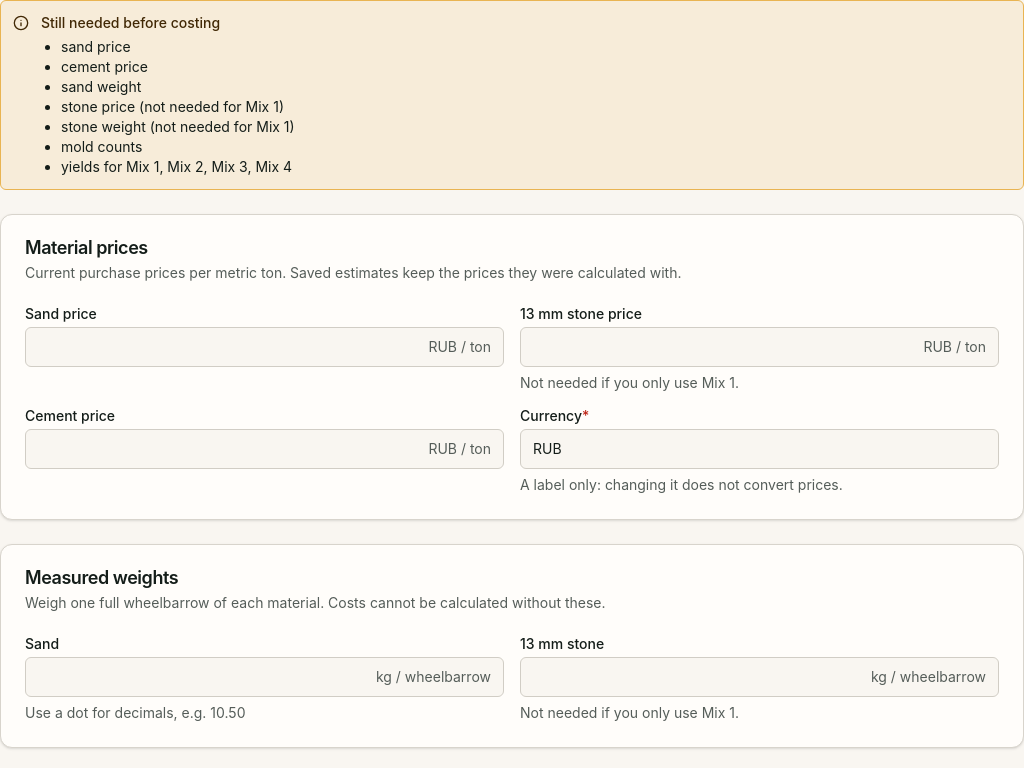
it: SettingsForm › asks before saving a zero price
Later steps or results of the test are not shown.
Type "0" into the field labelled "Cement price" at [227, 449], box [26,430,428,468]
(page scrolled)
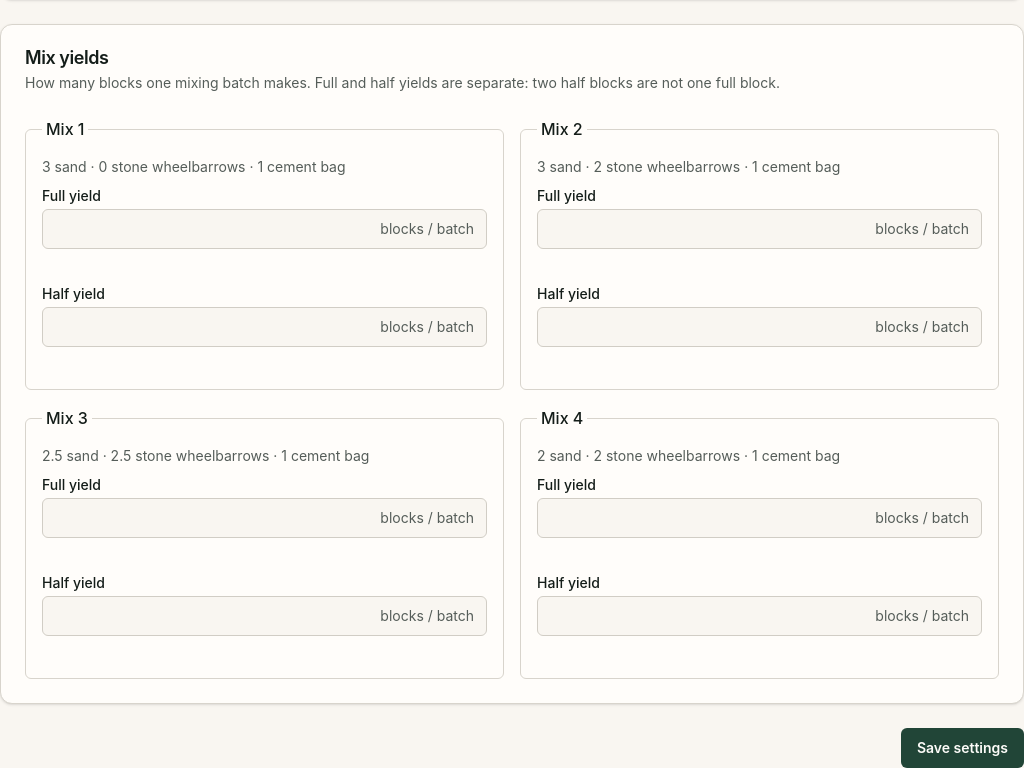
Click the button "Save settings" at [962, 748], box [901,728,1023,767]
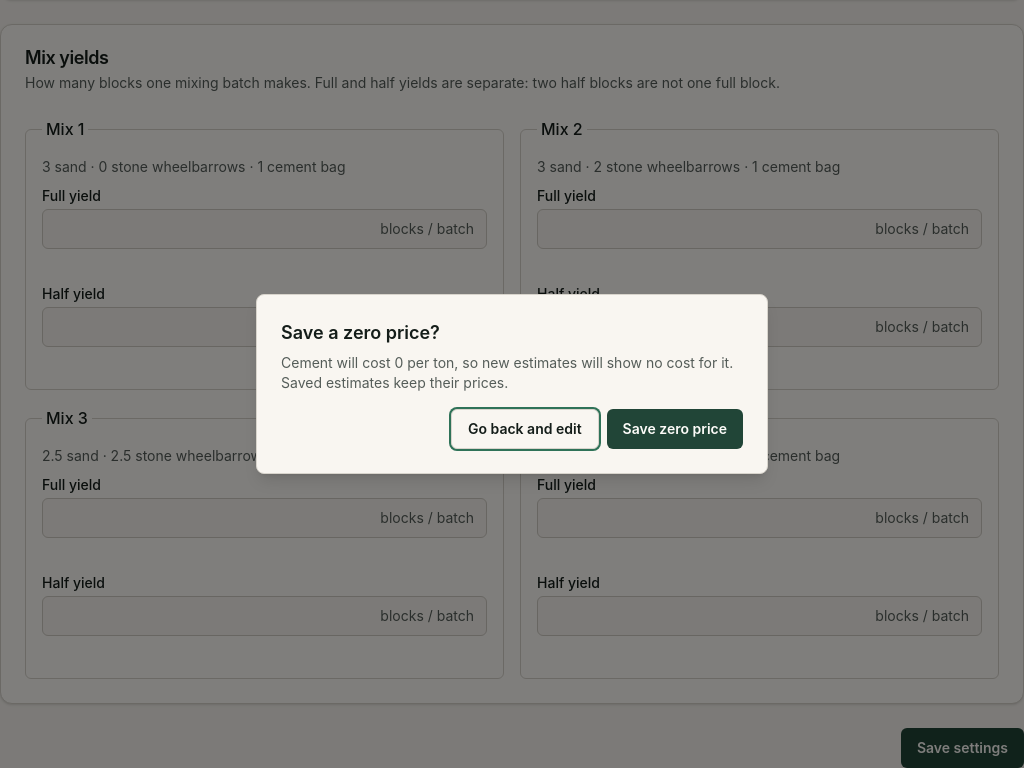
Result: the dialog shows "Cement" at [281,354,333,371]
